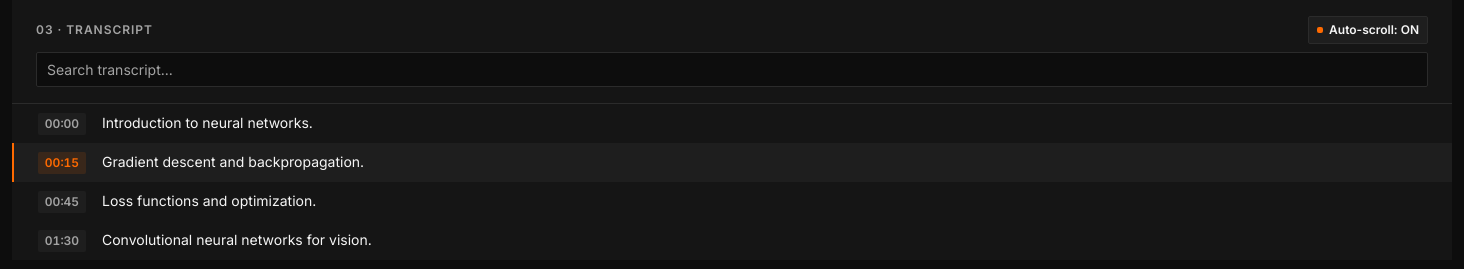
Scenario: TranscriptPanel component › displays empty state when search finds no matches
Type "quantum superposition" into the field named "Filter transcript by text".
click(732, 70); type("quantum superposition")  # box [36,52,1428,87]
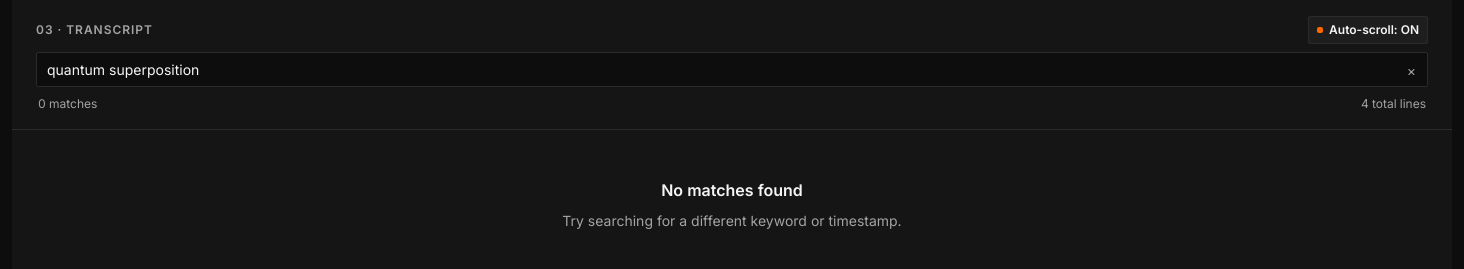
Now the text "No matches found" is shown, box [661,178,803,202]
